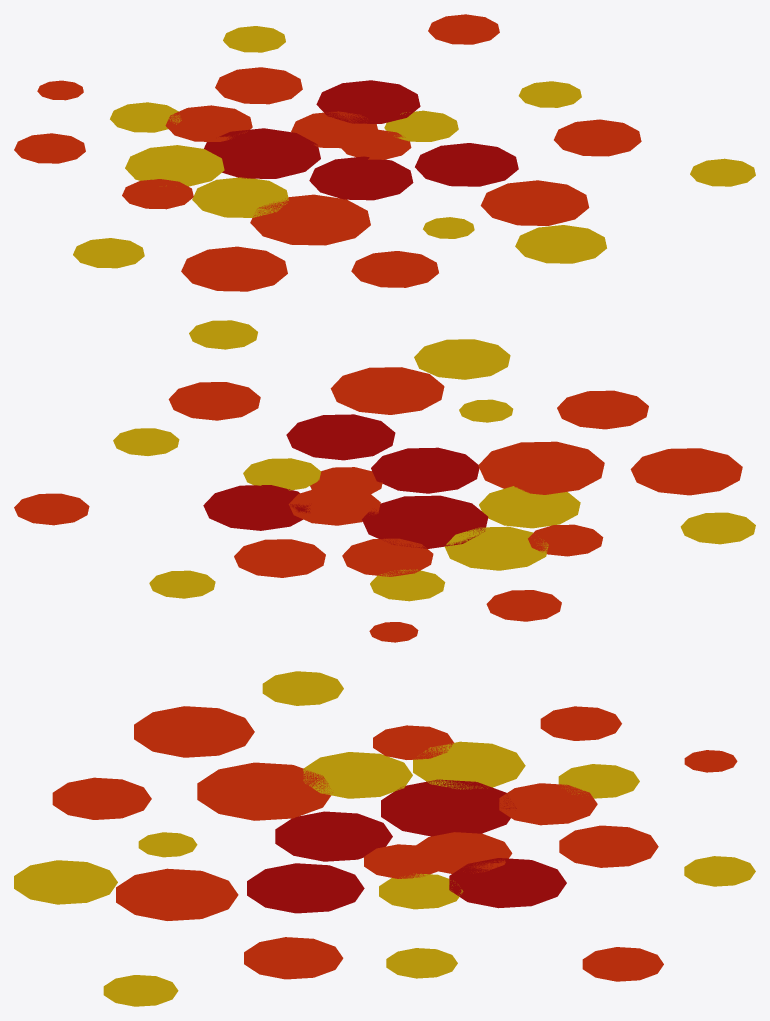
File: explosion.obj
3 renders of one model, top to bottom at view 1: azimuth 30°, elevation 25°; view 2: azimuth 150°, elevation 25°; view 3: azimuth 270°, elevation 25°, orthographic. The views are drawn at different scales.
Parts seen in each view (by area): view 1: Plane; view 2: Plane; view 3: Plane.
Boxes of the visible parts, bbox=[...] form: Plane: bbox=[14, 14, 755, 291]; Plane: bbox=[14, 320, 755, 642]; Plane: bbox=[14, 671, 755, 1006].
Size of the model in its own units: 1.71 by 0 by 1.6.
